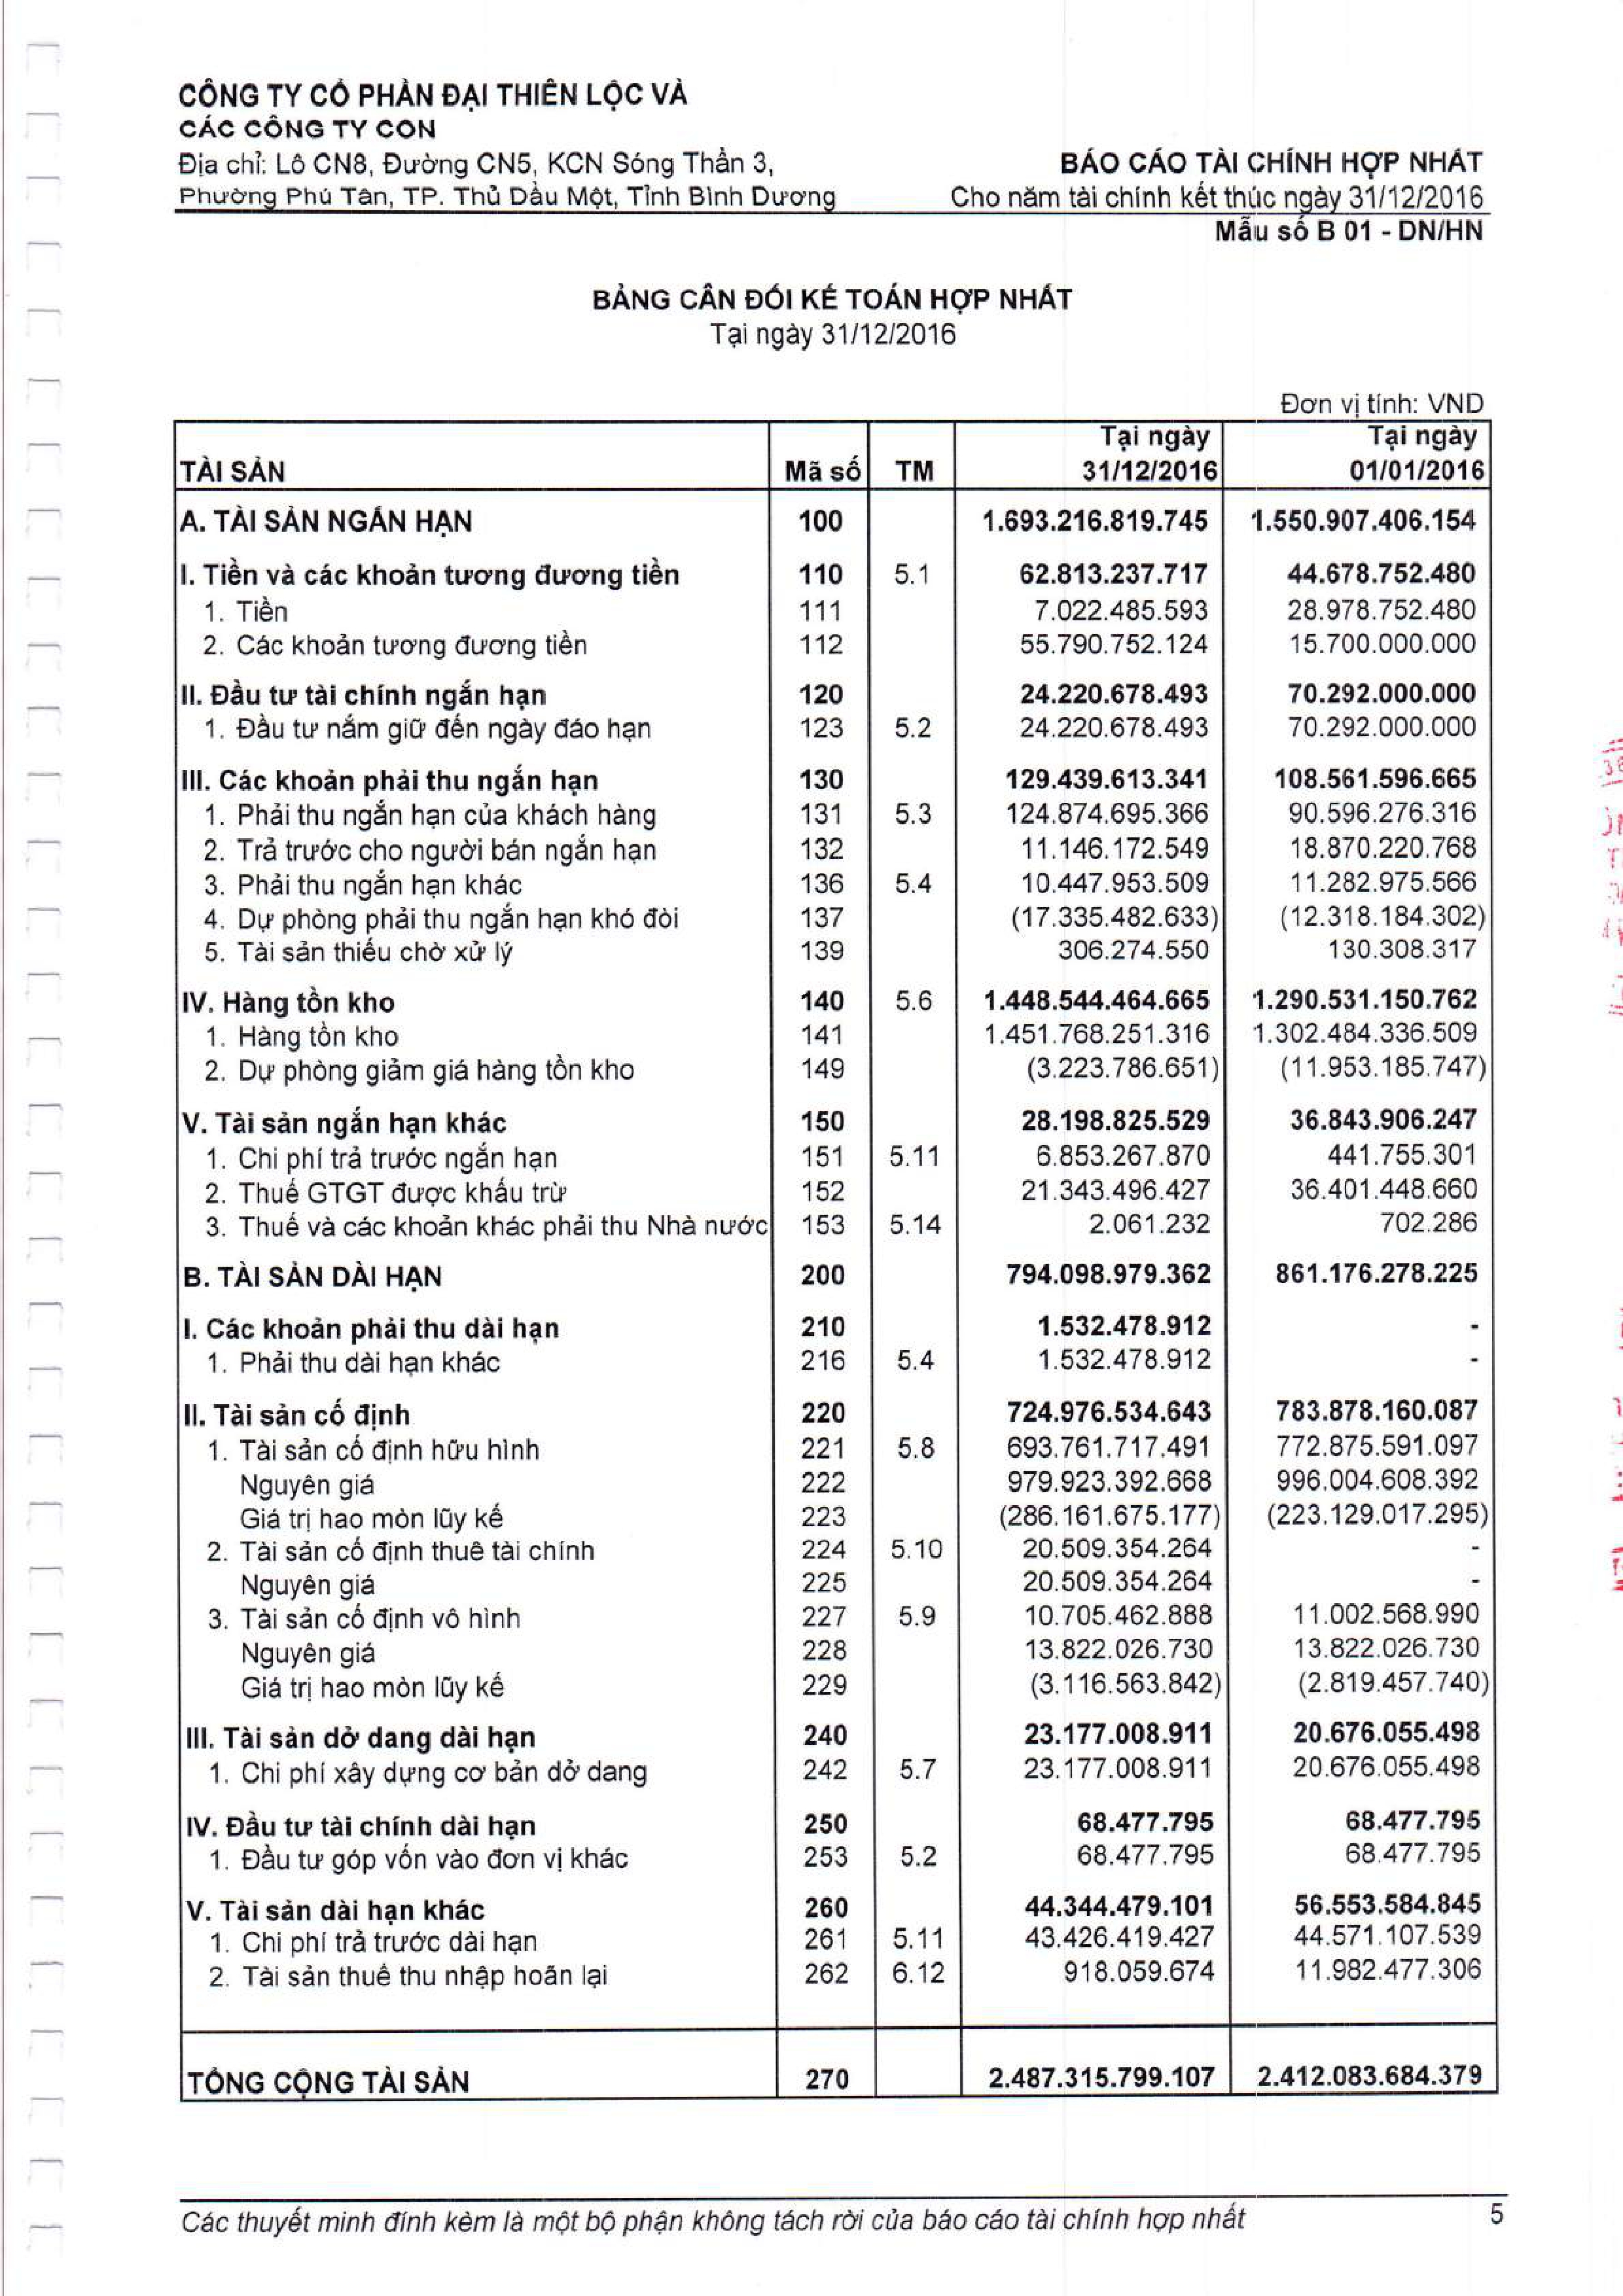table: (165, 413, 1511, 2115)
table column: (183, 413, 771, 2115), (978, 413, 1235, 2115), (1245, 413, 1490, 2115), (804, 413, 876, 2115), (891, 413, 957, 2115)
table column header: (165, 411, 1511, 488)
table row: (165, 421, 1511, 484), (165, 493, 1511, 541), (165, 548, 1511, 585), (165, 1238, 1511, 1274), (165, 702, 1511, 737), (165, 786, 1511, 822), (165, 1036, 1511, 1071), (165, 1088, 1511, 1123), (165, 1188, 1511, 1223), (165, 1373, 1511, 1408), (165, 1808, 1511, 1843), (165, 1964, 1511, 1999), (165, 2059, 1511, 2094), (165, 585, 1511, 618), (165, 620, 1511, 653), (165, 669, 1511, 702), (165, 753, 1511, 786), (165, 967, 1511, 1001), (165, 1002, 1511, 1036), (165, 1123, 1511, 1157), (165, 1573, 1511, 1606), (165, 1676, 1511, 1710), (165, 1843, 1511, 1876), (165, 822, 1511, 853), (165, 855, 1511, 886), (165, 920, 1511, 951), (165, 1157, 1511, 1188), (165, 1292, 1511, 1324), (165, 1324, 1511, 1355), (165, 1443, 1511, 1474), (165, 1474, 1511, 1506), (165, 1506, 1511, 1538), (165, 1541, 1511, 1573), (165, 1606, 1511, 1638), (165, 1645, 1511, 1676), (165, 1727, 1511, 1759), (165, 1761, 1511, 1792), (165, 1898, 1511, 1929), (165, 1931, 1511, 1962), (165, 888, 1511, 918), (165, 1410, 1511, 1439)
